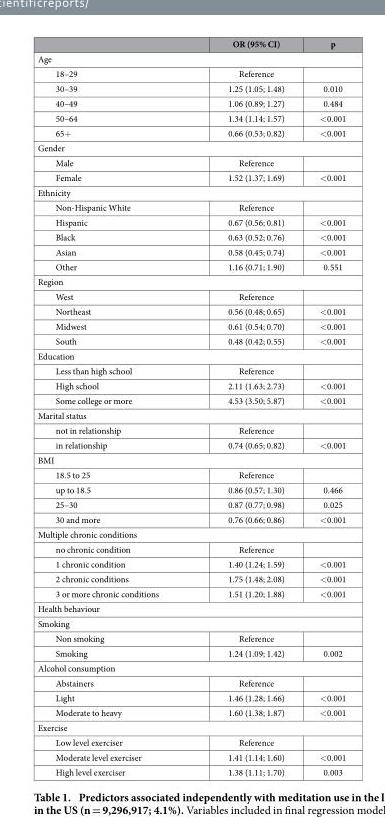table: (36, 37, 345, 777)
table column: (36, 37, 192, 777), (192, 37, 301, 777), (301, 37, 345, 777)
table column header: (36, 37, 345, 50)
table projected row header: (36, 50, 345, 65), (36, 184, 345, 199), (36, 273, 345, 288), (36, 348, 345, 363), (36, 407, 345, 422), (36, 452, 345, 467), (36, 526, 345, 541), (36, 600, 345, 615), (36, 615, 345, 630), (36, 660, 345, 675), (36, 719, 345, 734), (36, 140, 345, 154)
table row: (36, 50, 345, 65), (36, 65, 345, 80), (36, 80, 345, 95), (36, 95, 345, 110), (36, 110, 345, 125), (36, 125, 345, 140), (36, 154, 345, 169), (36, 169, 345, 184), (36, 184, 345, 199), (36, 199, 345, 214), (36, 214, 345, 229), (36, 229, 345, 244), (36, 244, 345, 259), (36, 273, 345, 288), (36, 288, 345, 303), (36, 303, 345, 318), (36, 318, 345, 333), (36, 333, 345, 348), (36, 348, 345, 363), (36, 377, 345, 392), (36, 392, 345, 407), (36, 407, 345, 422), (36, 422, 345, 437), (36, 437, 345, 452), (36, 452, 345, 467), (36, 481, 345, 496), (36, 496, 345, 511), (36, 511, 345, 526), (36, 526, 345, 541), (36, 541, 345, 556), (36, 556, 345, 571), (36, 585, 345, 600), (36, 600, 345, 615), (36, 615, 345, 630), (36, 630, 345, 645), (36, 645, 345, 660), (36, 660, 345, 675), (36, 689, 345, 704), (36, 704, 345, 719), (36, 719, 345, 734), (36, 734, 345, 749), (36, 749, 345, 764), (36, 140, 345, 154), (36, 259, 345, 273), (36, 363, 345, 377), (36, 467, 345, 481), (36, 571, 345, 585), (36, 675, 345, 689), (36, 37, 345, 50), (36, 764, 345, 777)
